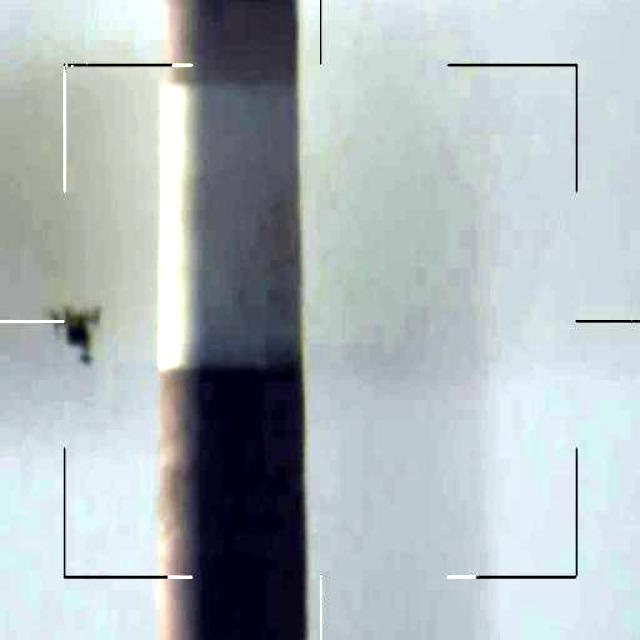bird: (44, 306, 110, 370)
